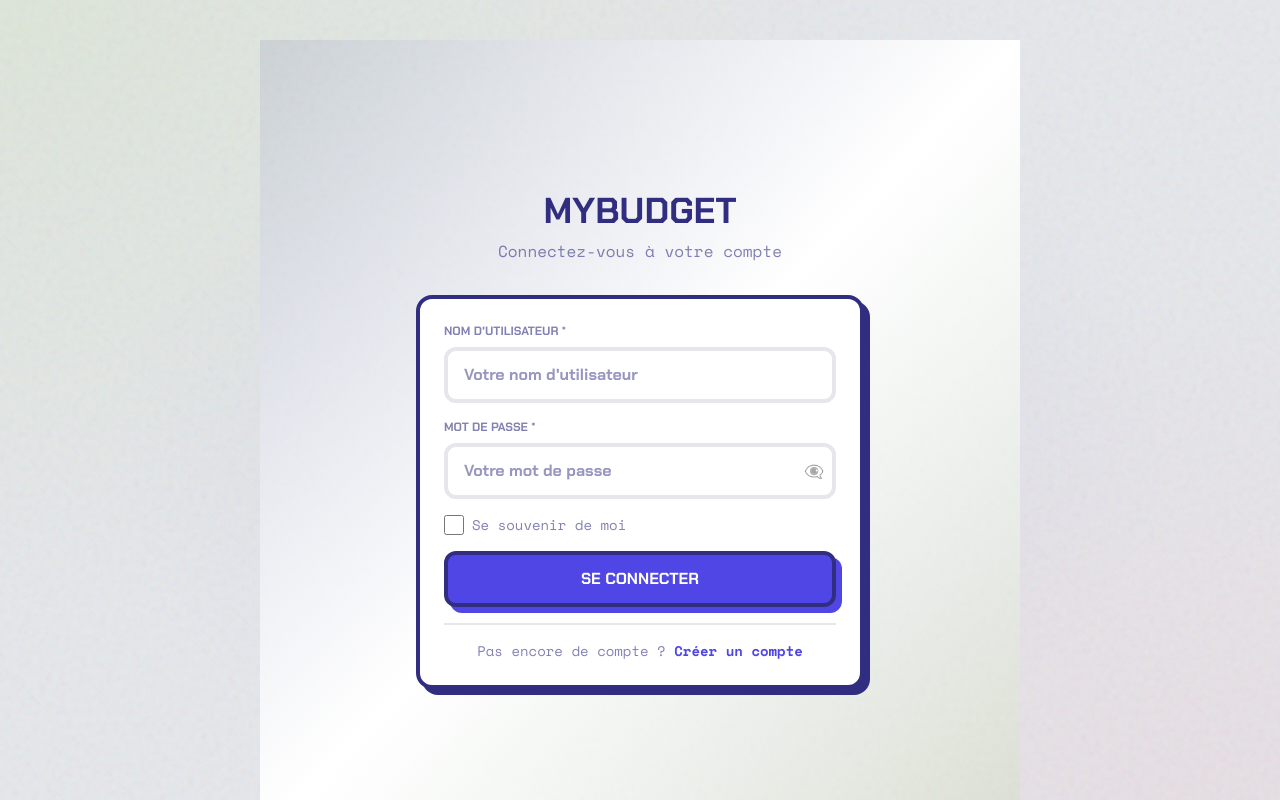
Test case: US02 - Connexion › Gestion des erreurs 401 : afficher un message d'identifiants incorrects
Type "alice" into the field with placeholder "Votre nom d'utilisateur". click: {"x": 640, "y": 375}
box: 444,347 -> 836,403
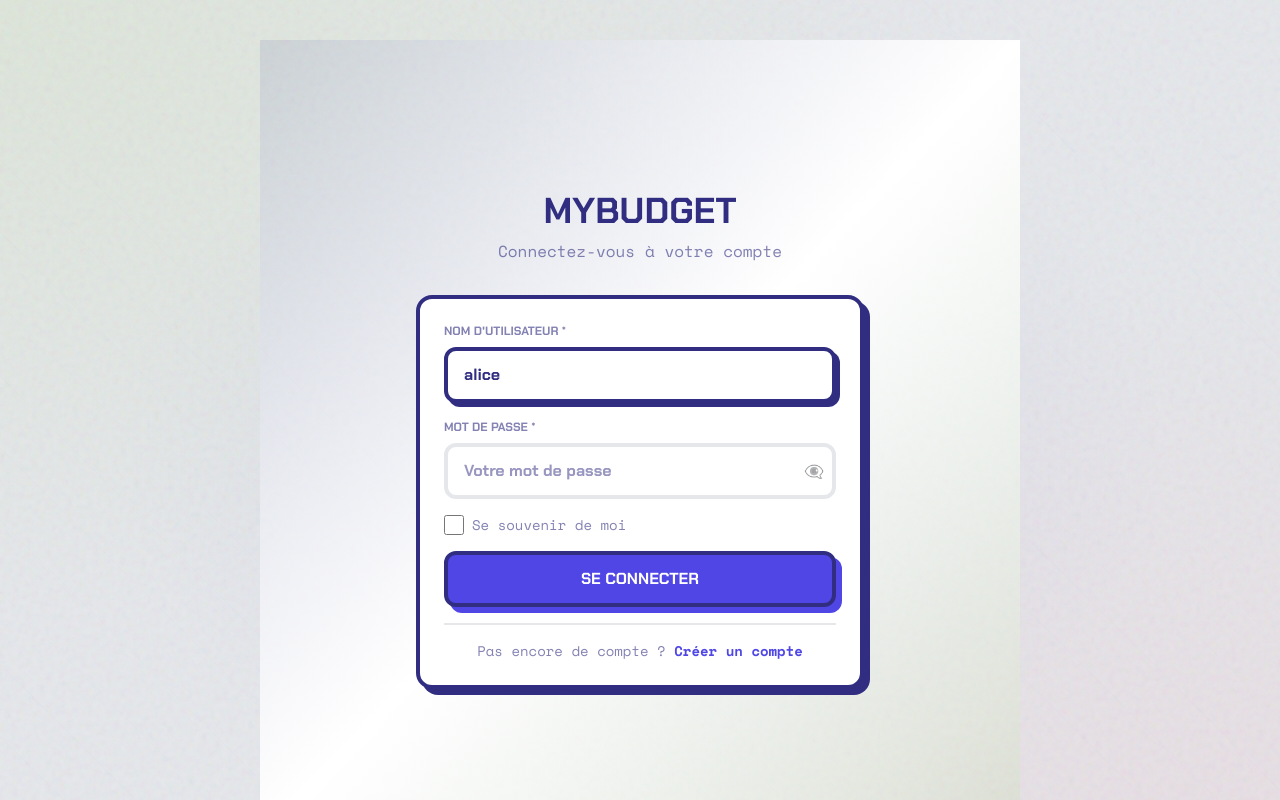
Type "wrong" into the password field with placeholder "Votre mot de passe". click: {"x": 640, "y": 471}
box: 444,443 -> 836,499
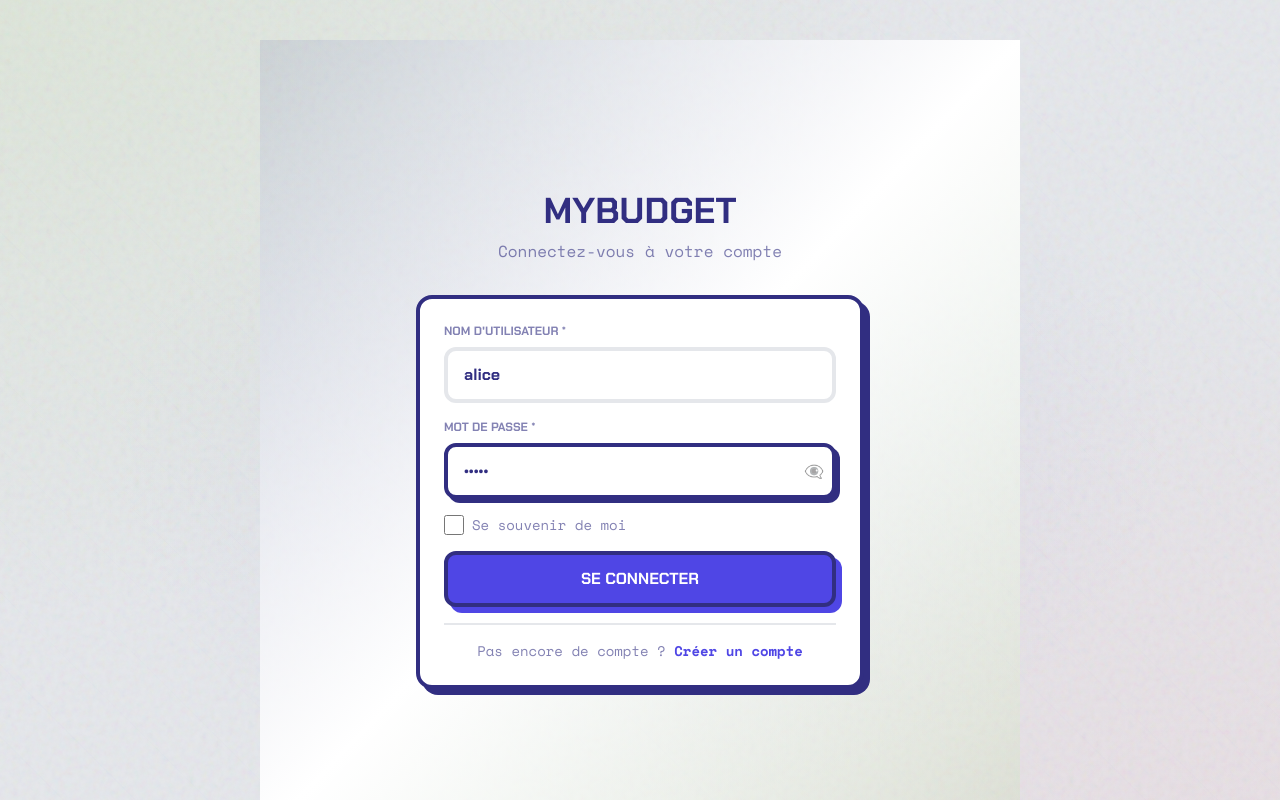
Click the button "Se connecter". click: {"x": 640, "y": 579}
box: 444,551 -> 836,607
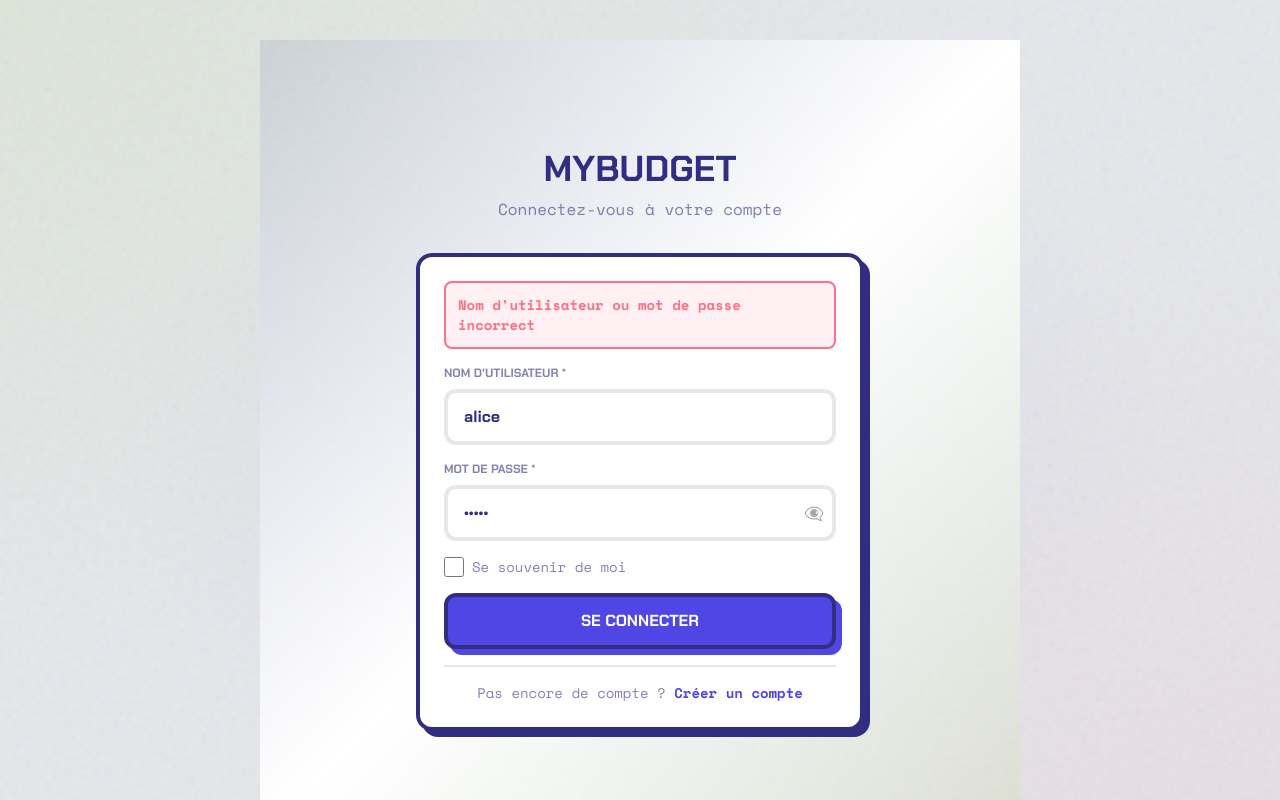
Expected: the text "Nom d'utilisateur ou mot de passe incorrect" is shown, 458,294 -> 741,335
